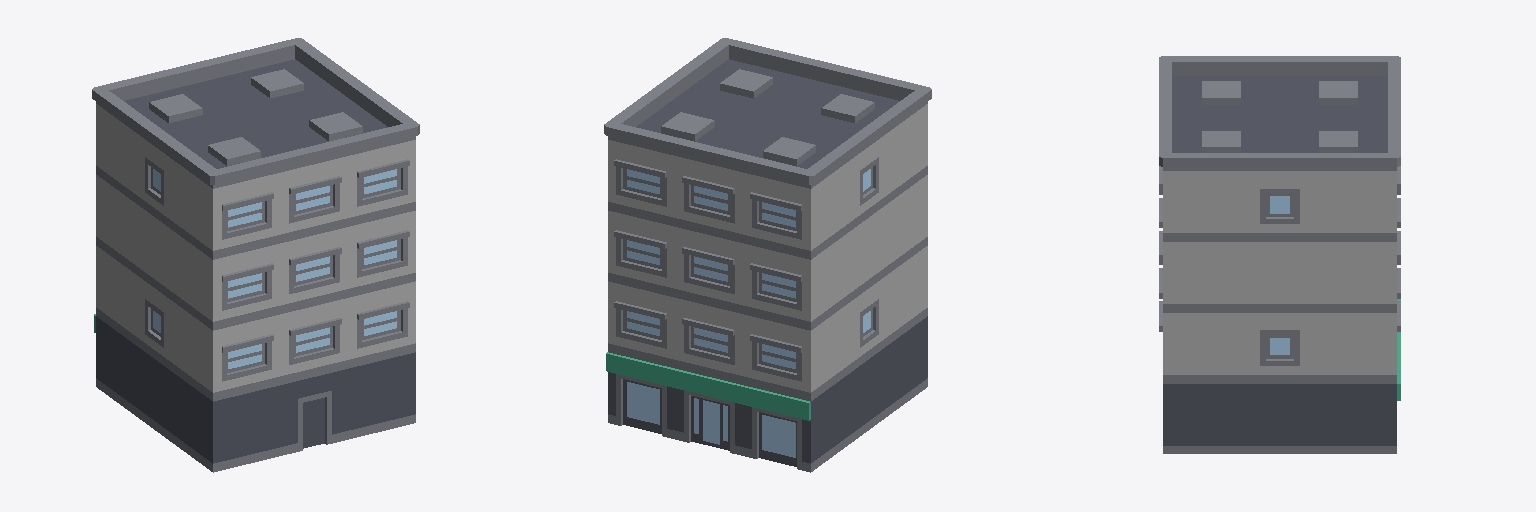
The model's file is large_buildingD.obj.
3 views of the same model, side by side, from view 1: azimuth 30°, elevation 25°; view 2: azimuth 150°, elevation 25°; view 3: azimuth 270°, elevation 25° (orthographic).
Parts seen in each view (by area): view 1: large_buildingD; view 2: large_buildingD; view 3: large_buildingD.
Boxes of the visible parts, x1,y1,x2,y2 form: large_buildingD: [92, 38, 419, 472]; large_buildingD: [604, 38, 931, 472]; large_buildingD: [1159, 56, 1400, 453].
Bounding box in the file's own units: 1.24 × 1.68 × 1.24.